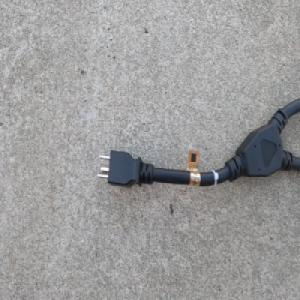Wire: (94, 95, 300, 192)
